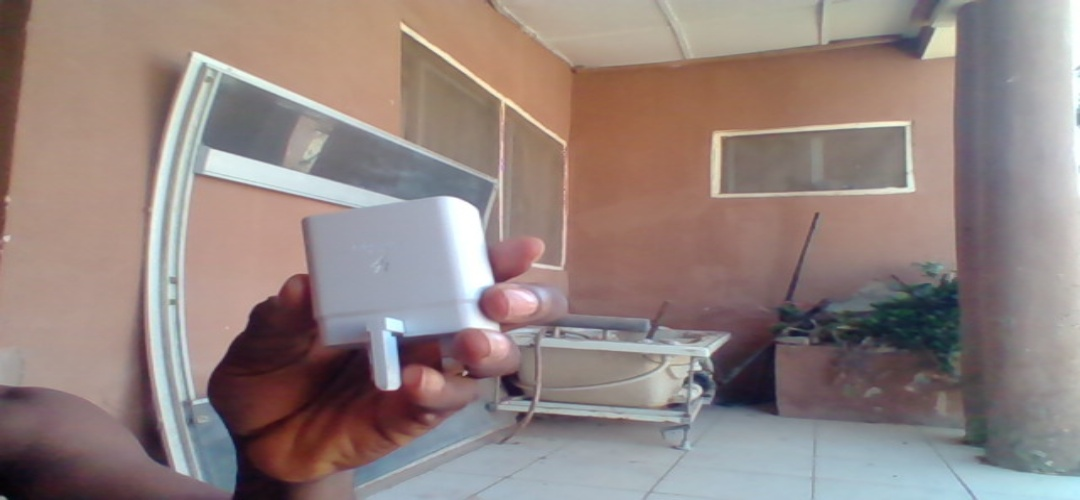phone_charger: (295, 212, 495, 387)
